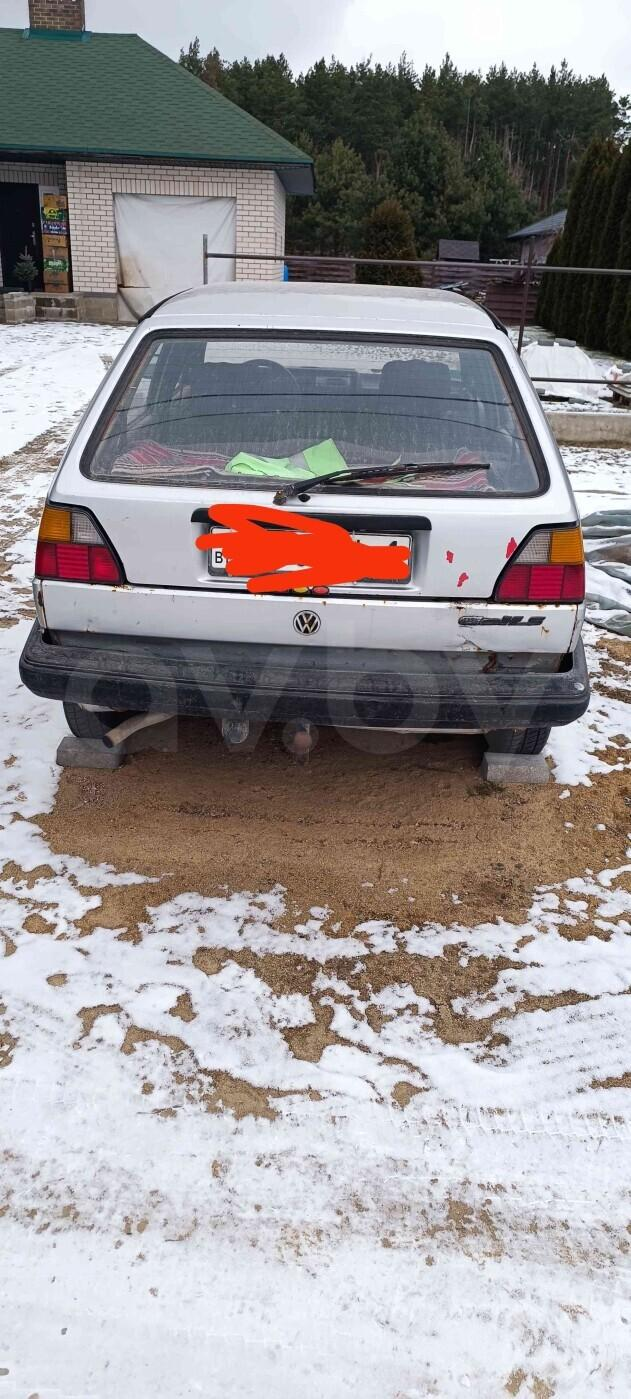Golf_1983-1992: (32, 278, 608, 798)
